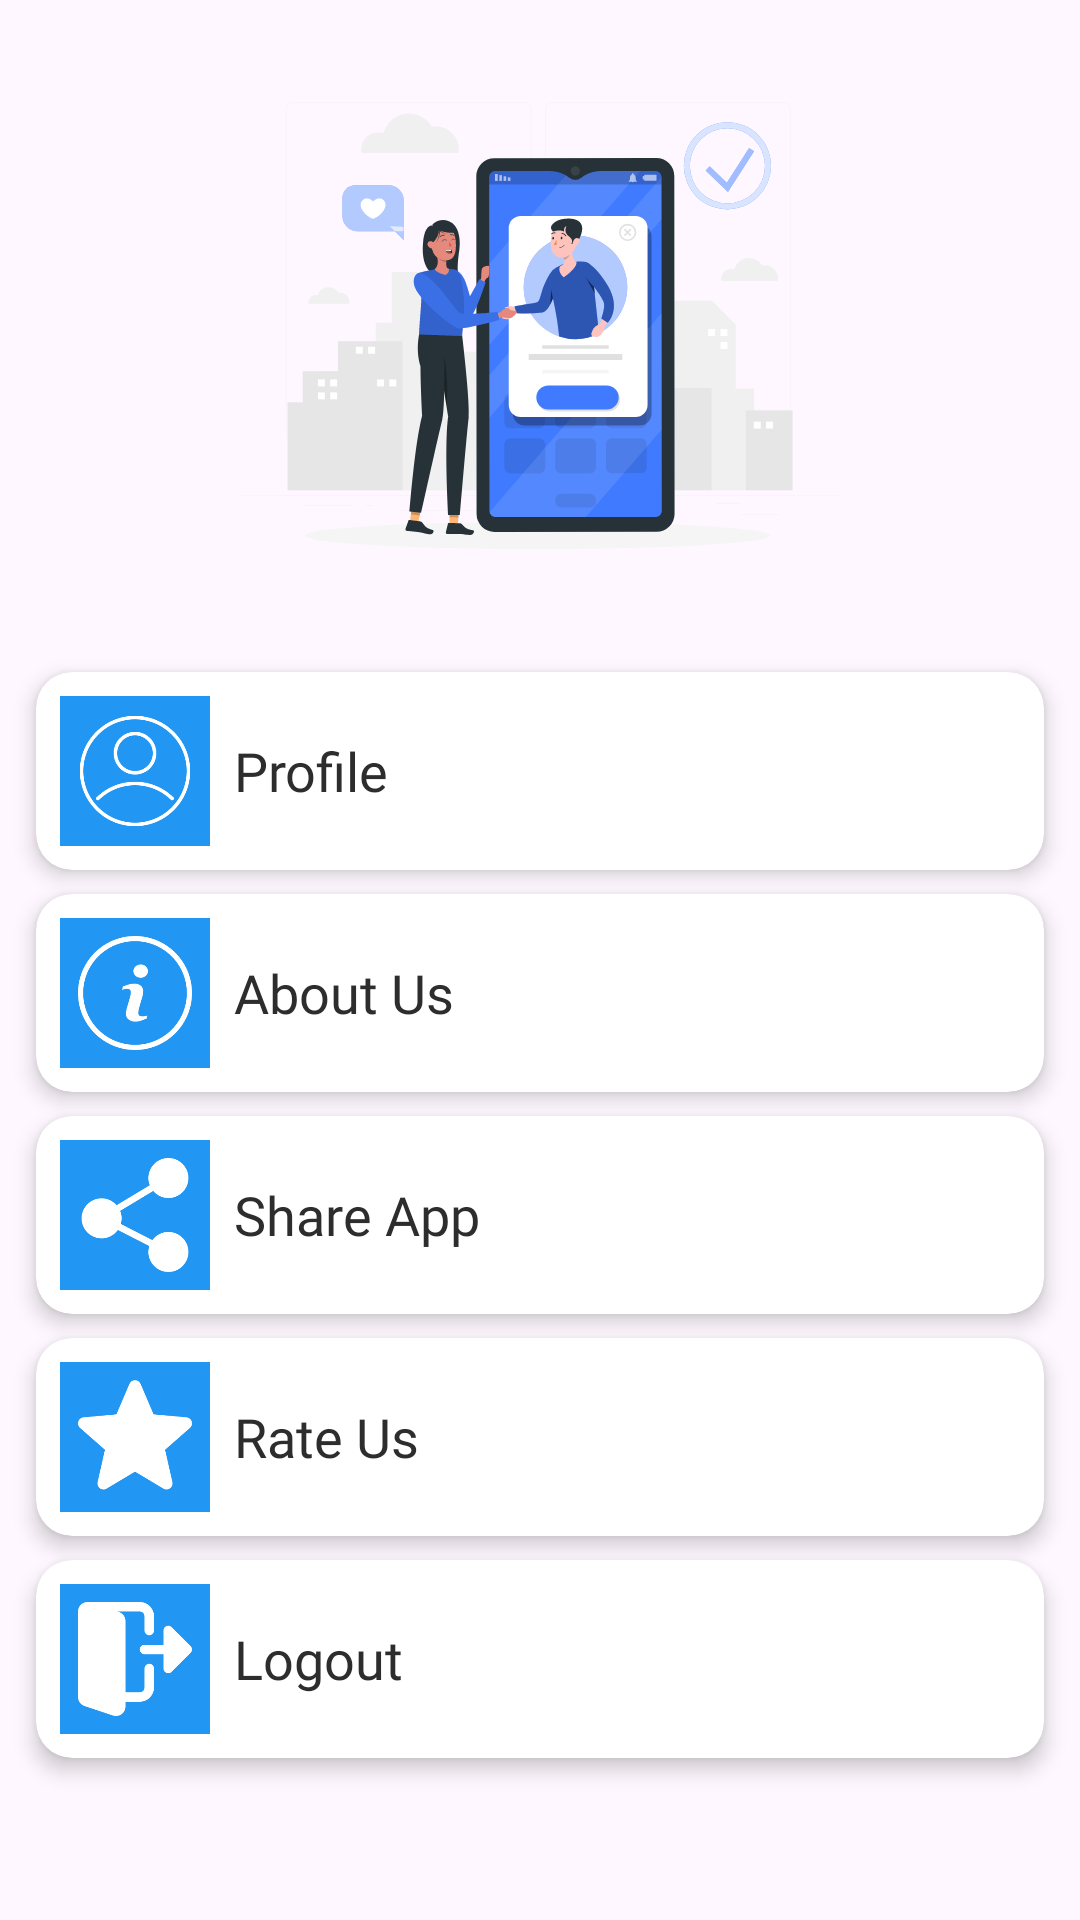

Where icons sit on this 1080×1920 app screen, as Rect(x1, y1, x2, y2):
info: Rect(60, 918, 210, 1068)
star: Rect(60, 1362, 210, 1512)
user: Rect(60, 696, 210, 846)
